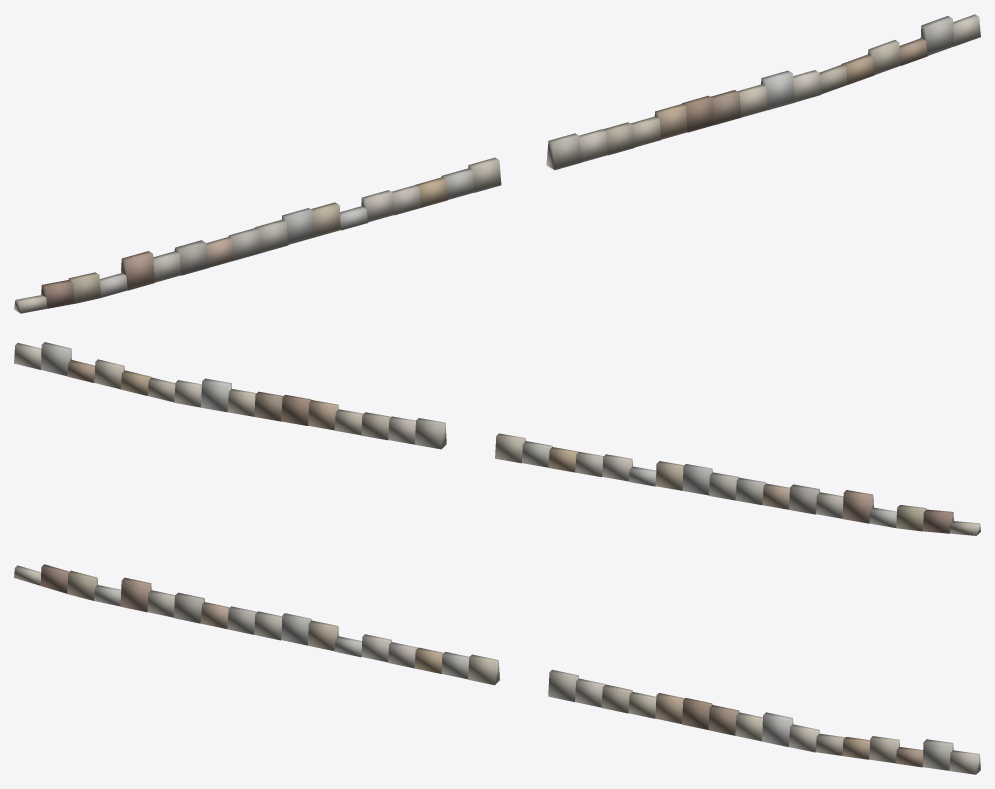
Rendered from farm_14_8_collision.glb.
The picture shows the model from 3 angles, top to bottom: view 1: azimuth 30°, elevation 25°; view 2: azimuth 150°, elevation 25°; view 3: azimuth 330°, elevation 25°; orthographic projection. The views are drawn at different scales.
Parts seen in each view (by area): view 1: geometry_0; view 2: geometry_0; view 3: geometry_0.
Part boxes in pixels (x1,y1,x2,y2): geometry_0: (14, 14, 980, 313); geometry_0: (14, 342, 980, 535); geometry_0: (14, 564, 980, 774).
Size of the model in its own units: 57.27 by 2.26 by 6.2.
